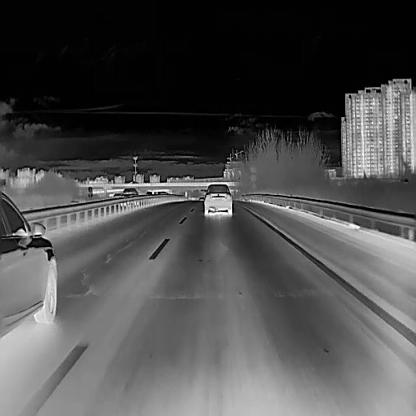car: (0, 188, 57, 328), (204, 184, 232, 214), (120, 187, 138, 197)
